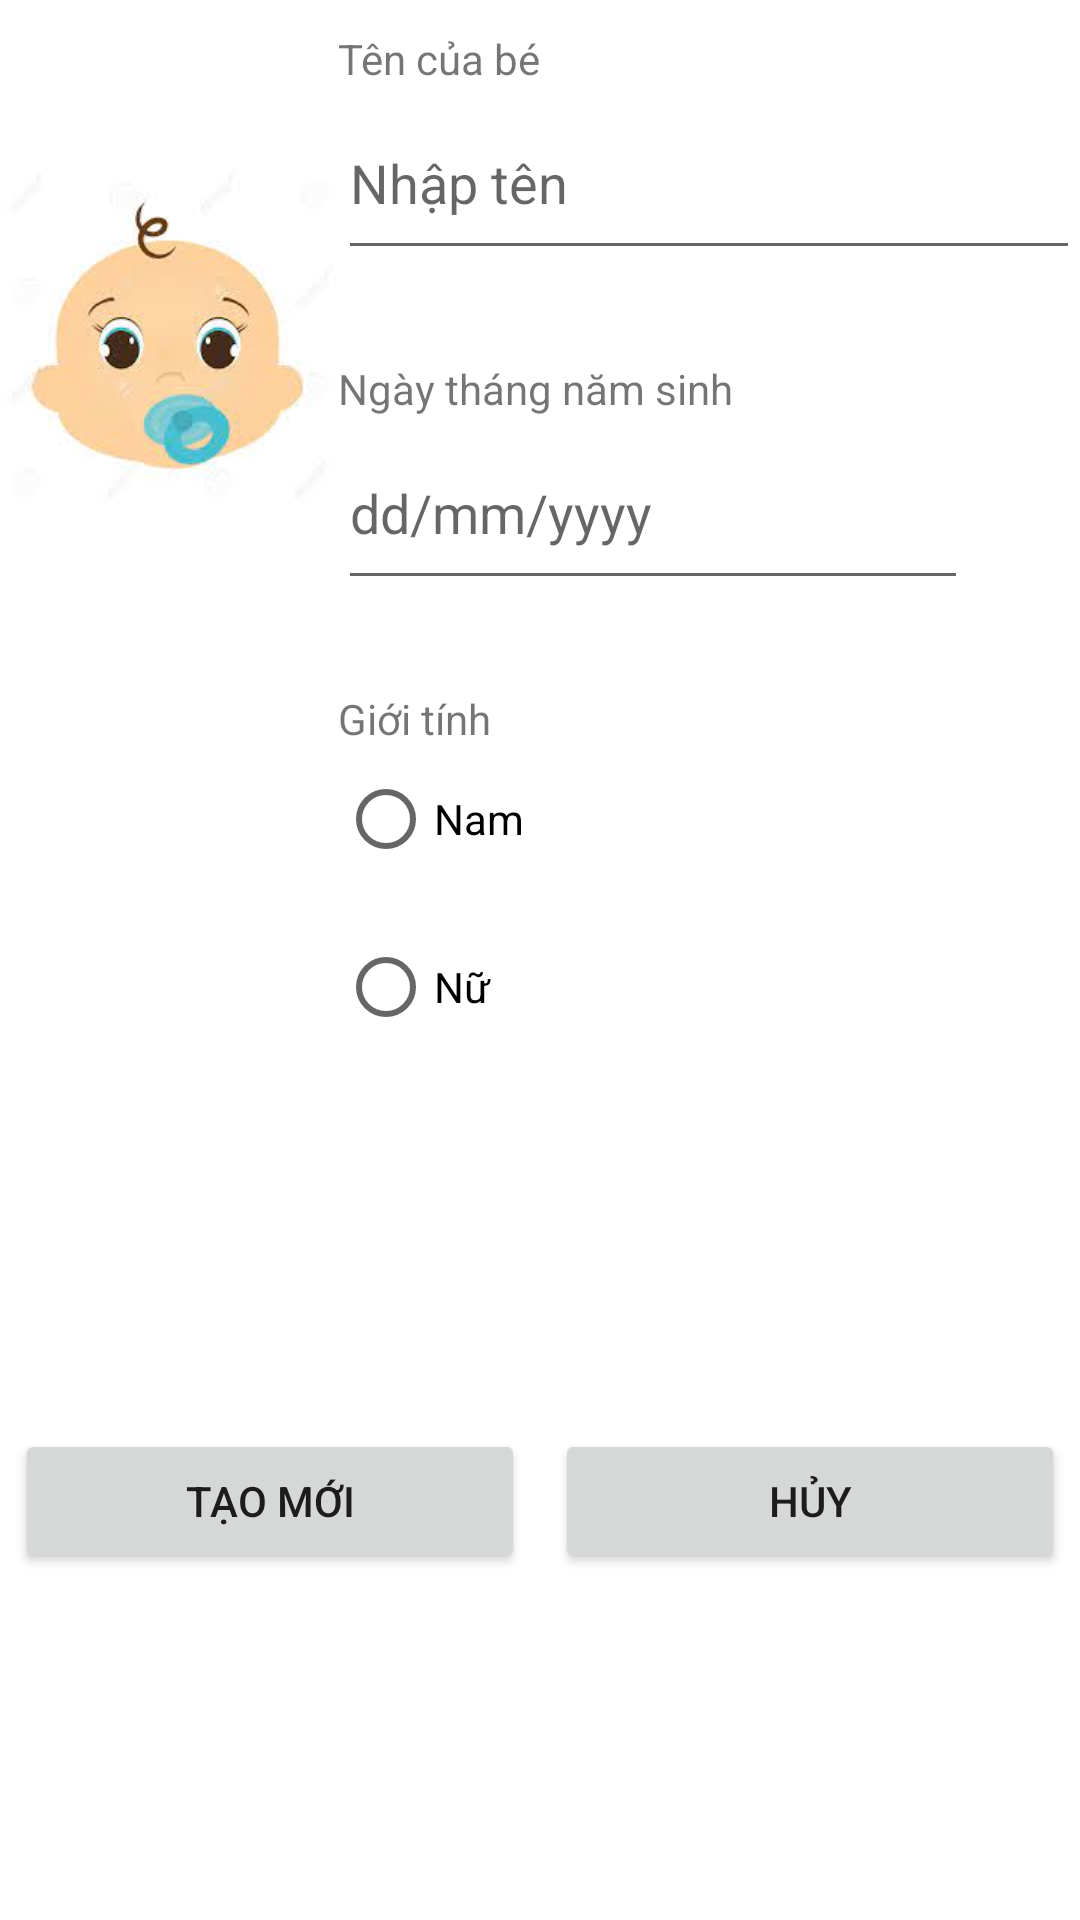

Screen size 1080px×1920px. Icon name, then its center in pixels as (x,y):
baby boy: (167,336)
